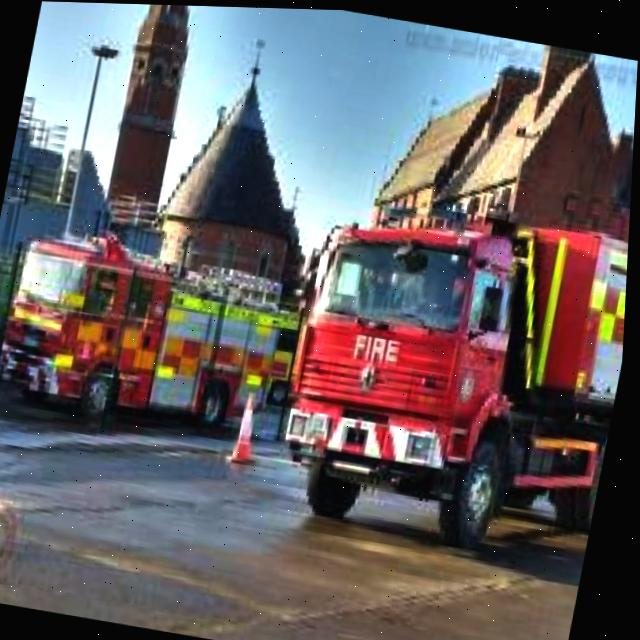emergency: (261, 181, 633, 569), (0, 214, 325, 457)
